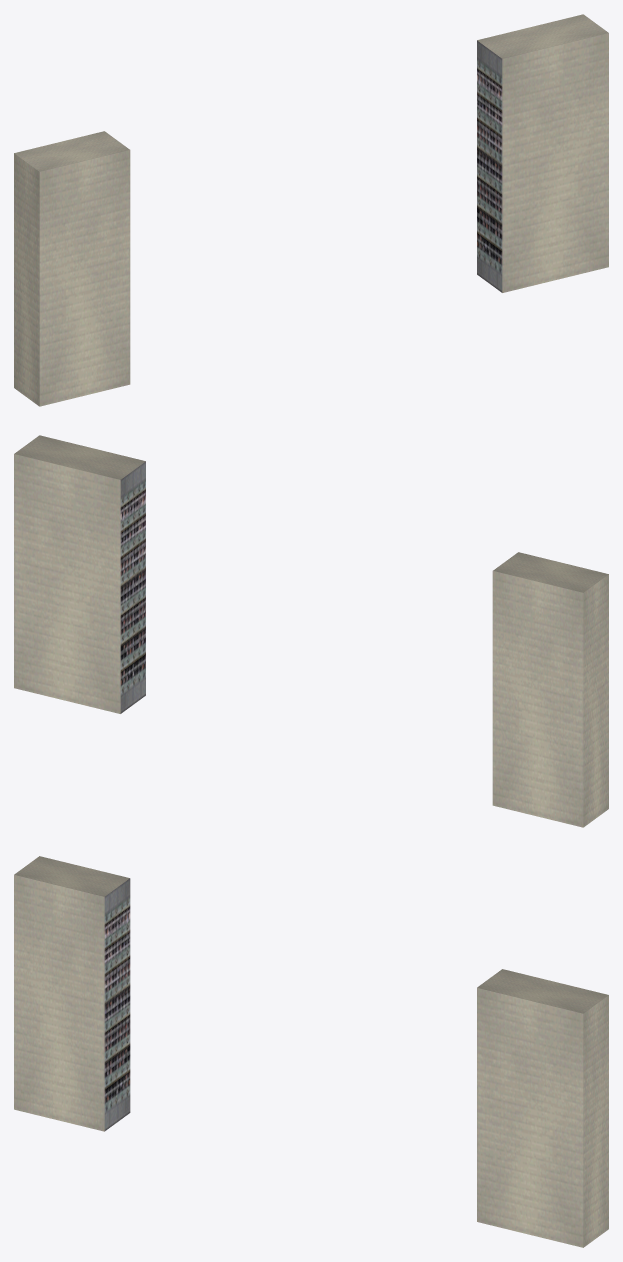
The model's file is GATE03.glb.
3 views of the same model, one above another, from view 1: azimuth 30°, elevation 25°; view 2: azimuth 150°, elevation 25°; view 3: azimuth 330°, elevation 25° (orthographic).
Visible parts, largest first — view 1: GATE03; view 2: GATE03; view 3: GATE03.
Part boxes in pixels (x1,y1,x2,y2): GATE03: (14, 14, 608, 406); GATE03: (14, 435, 608, 827); GATE03: (14, 856, 608, 1247).
Size of the model in its own units: 2025 by 798 by 157.
2 materials, 2 textured.
